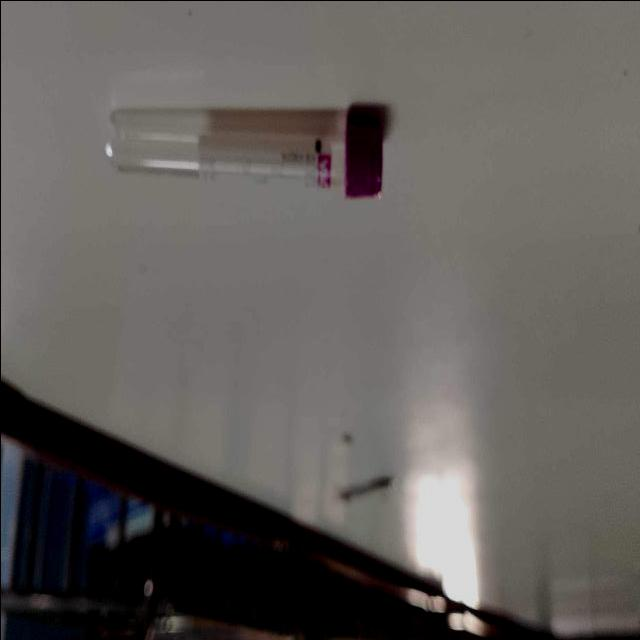General: (3, 4, 637, 638)
Sharps: (102, 104, 383, 201)
